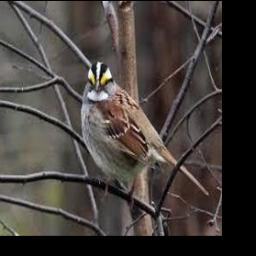Sparrow: (81, 61, 209, 198)
